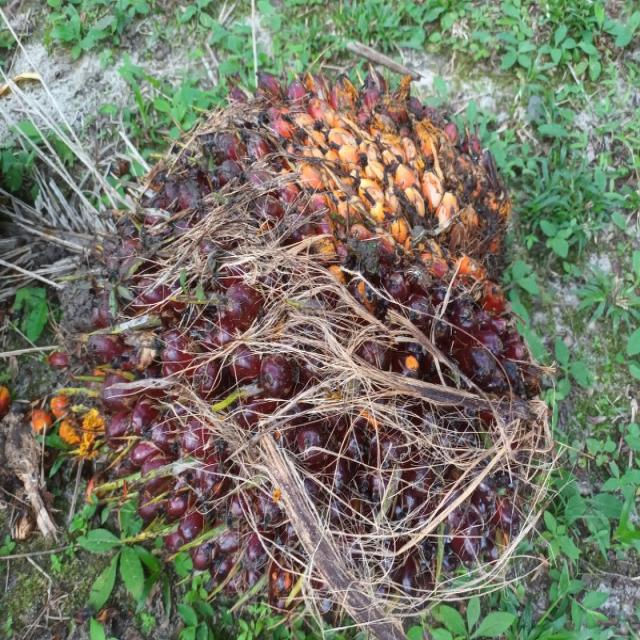fraksi 1: (69, 59, 560, 625)
